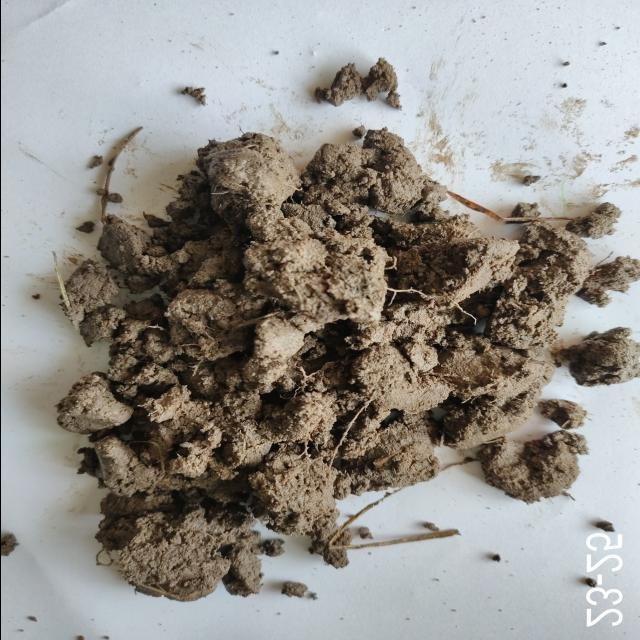soil: (137, 199, 497, 443)
